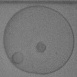small: (12, 52, 25, 64), (36, 42, 46, 53)
